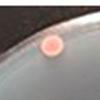pink: (38, 35, 66, 59)
